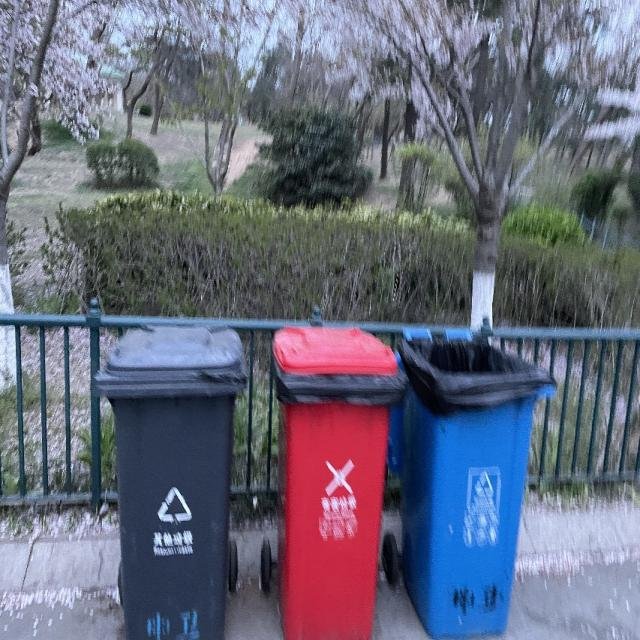garbage_bin: (398, 327, 554, 639), (95, 325, 246, 639), (271, 324, 399, 639)
